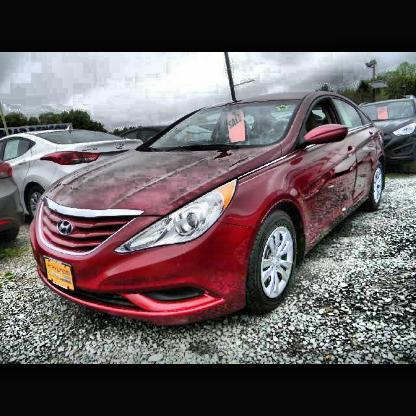Hyundai Azera Sedan 2012: (29, 94, 383, 323)
